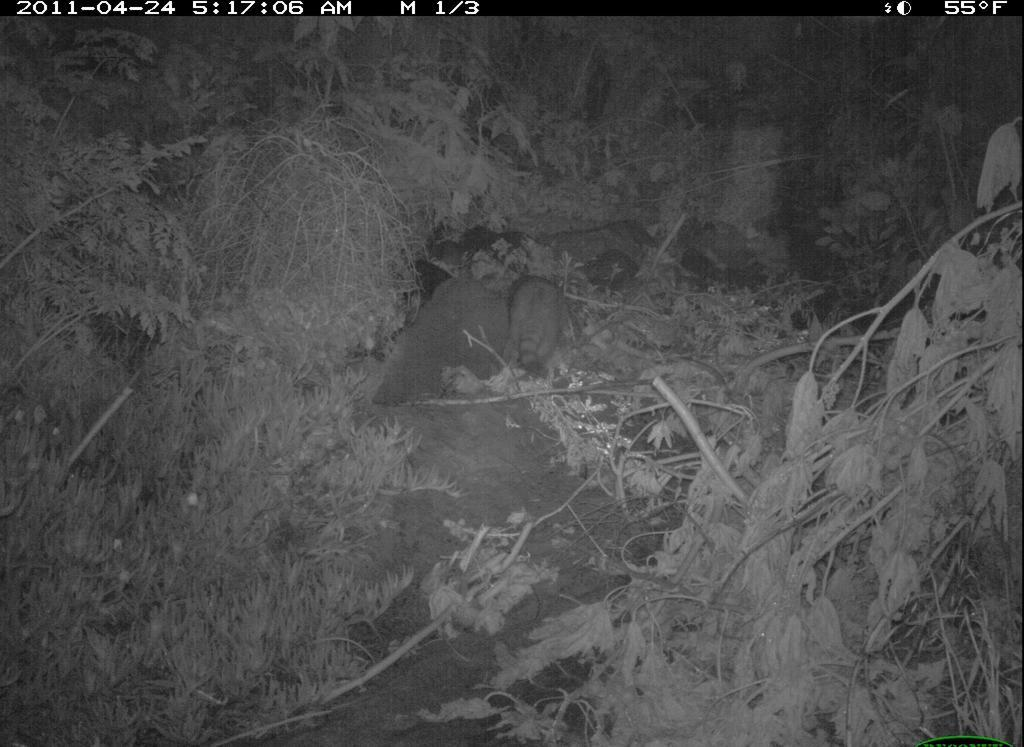raccoon: (501, 271, 583, 390)
